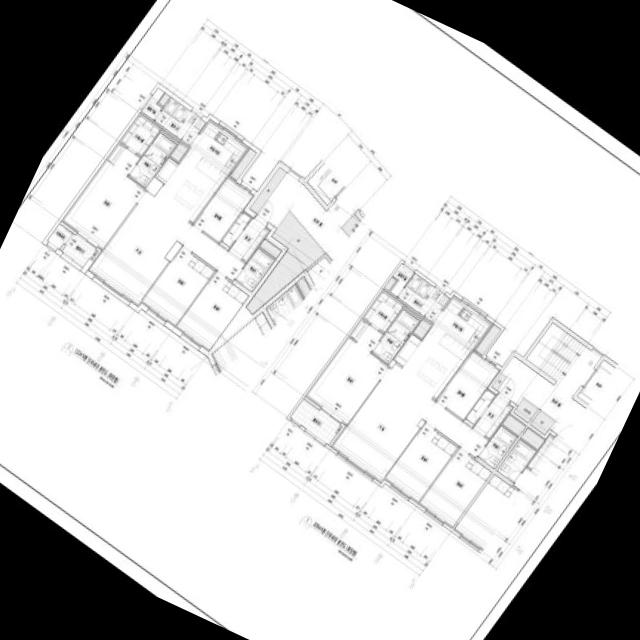background: (0, 0, 640, 640)
space_balconi: (398, 274, 449, 323), (154, 98, 205, 146), (290, 399, 342, 445), (61, 234, 97, 267)
space_bedroom: (305, 319, 388, 426), (62, 161, 145, 251), (141, 247, 215, 327), (384, 424, 458, 503), (176, 272, 249, 352), (419, 449, 492, 528)
space_dressroom: (105, 113, 161, 177), (362, 290, 404, 333)
space_elevator: (577, 360, 615, 405), (307, 163, 345, 206)
space_elevator_hall: (497, 346, 601, 440), (257, 173, 361, 261)
space_front: (219, 212, 270, 264), (466, 389, 513, 439)
space_kitchen: (146, 119, 249, 225), (392, 295, 493, 400)
space_living_room: (331, 369, 488, 483), (88, 193, 245, 307)
space_other: (246, 211, 325, 315), (437, 351, 500, 420), (193, 177, 254, 243), (249, 168, 287, 214), (230, 149, 256, 181), (475, 325, 501, 355), (307, 257, 330, 286), (513, 398, 538, 423), (47, 224, 71, 250), (530, 411, 555, 435), (502, 414, 526, 436), (341, 214, 361, 238), (259, 239, 282, 259), (413, 319, 432, 339), (170, 142, 188, 162), (491, 374, 506, 391), (384, 278, 396, 292), (158, 94, 170, 107)
space_outdoor_room: (390, 264, 414, 297), (141, 88, 164, 120)
space_staircase: (526, 323, 584, 382)
space_toilet: (129, 133, 177, 188), (372, 310, 419, 364), (235, 248, 275, 292), (478, 426, 517, 470)
